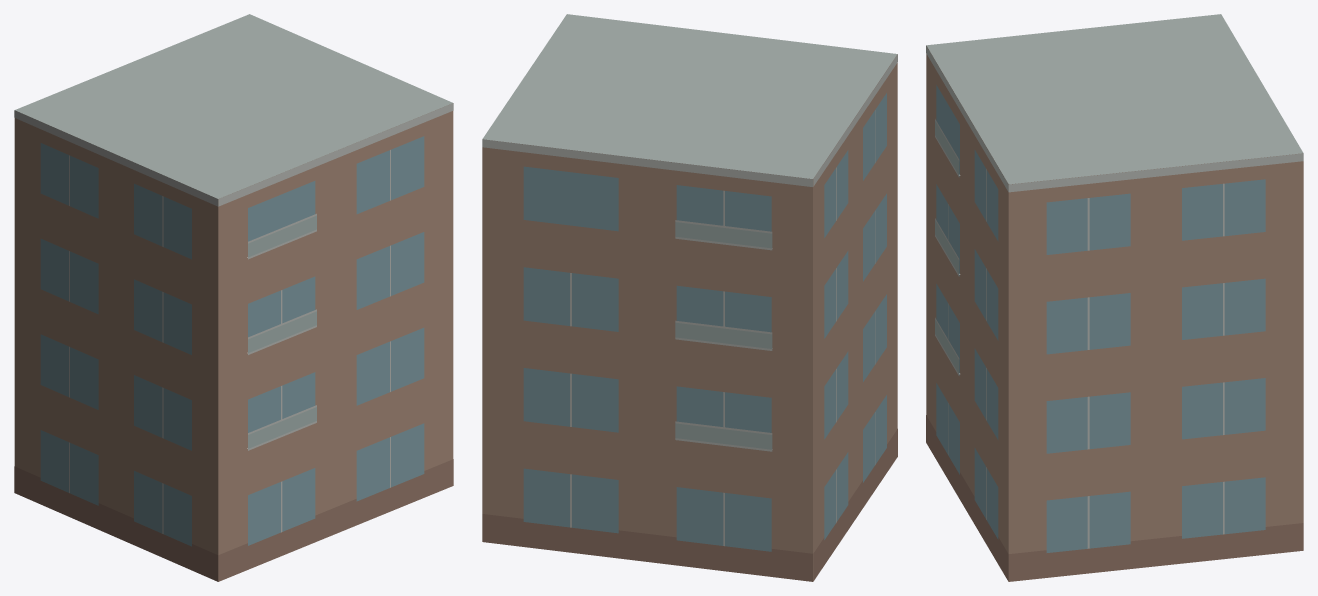
Rendered from residential-3d6556bf-2455-40fb-8086-b4668d07df56.glb.
3 renders of one model, left to right at view 1: azimuth 30°, elevation 25°; view 2: azimuth 150°, elevation 25°; view 3: azimuth 270°, elevation 25°, orthographic. The views are drawn at different scales.
Parts seen in each view (by area): view 1: residential-3d6556bf-2455-40fb-8086-b4668d07df56.tmp; view 2: residential-3d6556bf-2455-40fb-8086-b4668d07df56.tmp; view 3: residential-3d6556bf-2455-40fb-8086-b4668d07df56.tmp.
Boxes of the visible parts, x1=… form: residential-3d6556bf-2455-40fb-8086-b4668d07df56.tmp: x1=14, y1=14, x2=453, y2=581; residential-3d6556bf-2455-40fb-8086-b4668d07df56.tmp: x1=482, y1=14, x2=897, y2=581; residential-3d6556bf-2455-40fb-8086-b4668d07df56.tmp: x1=926, y1=14, x2=1303, y2=581.
Size of the model in its own units: 11.23 by 12.2 by 10.51.
